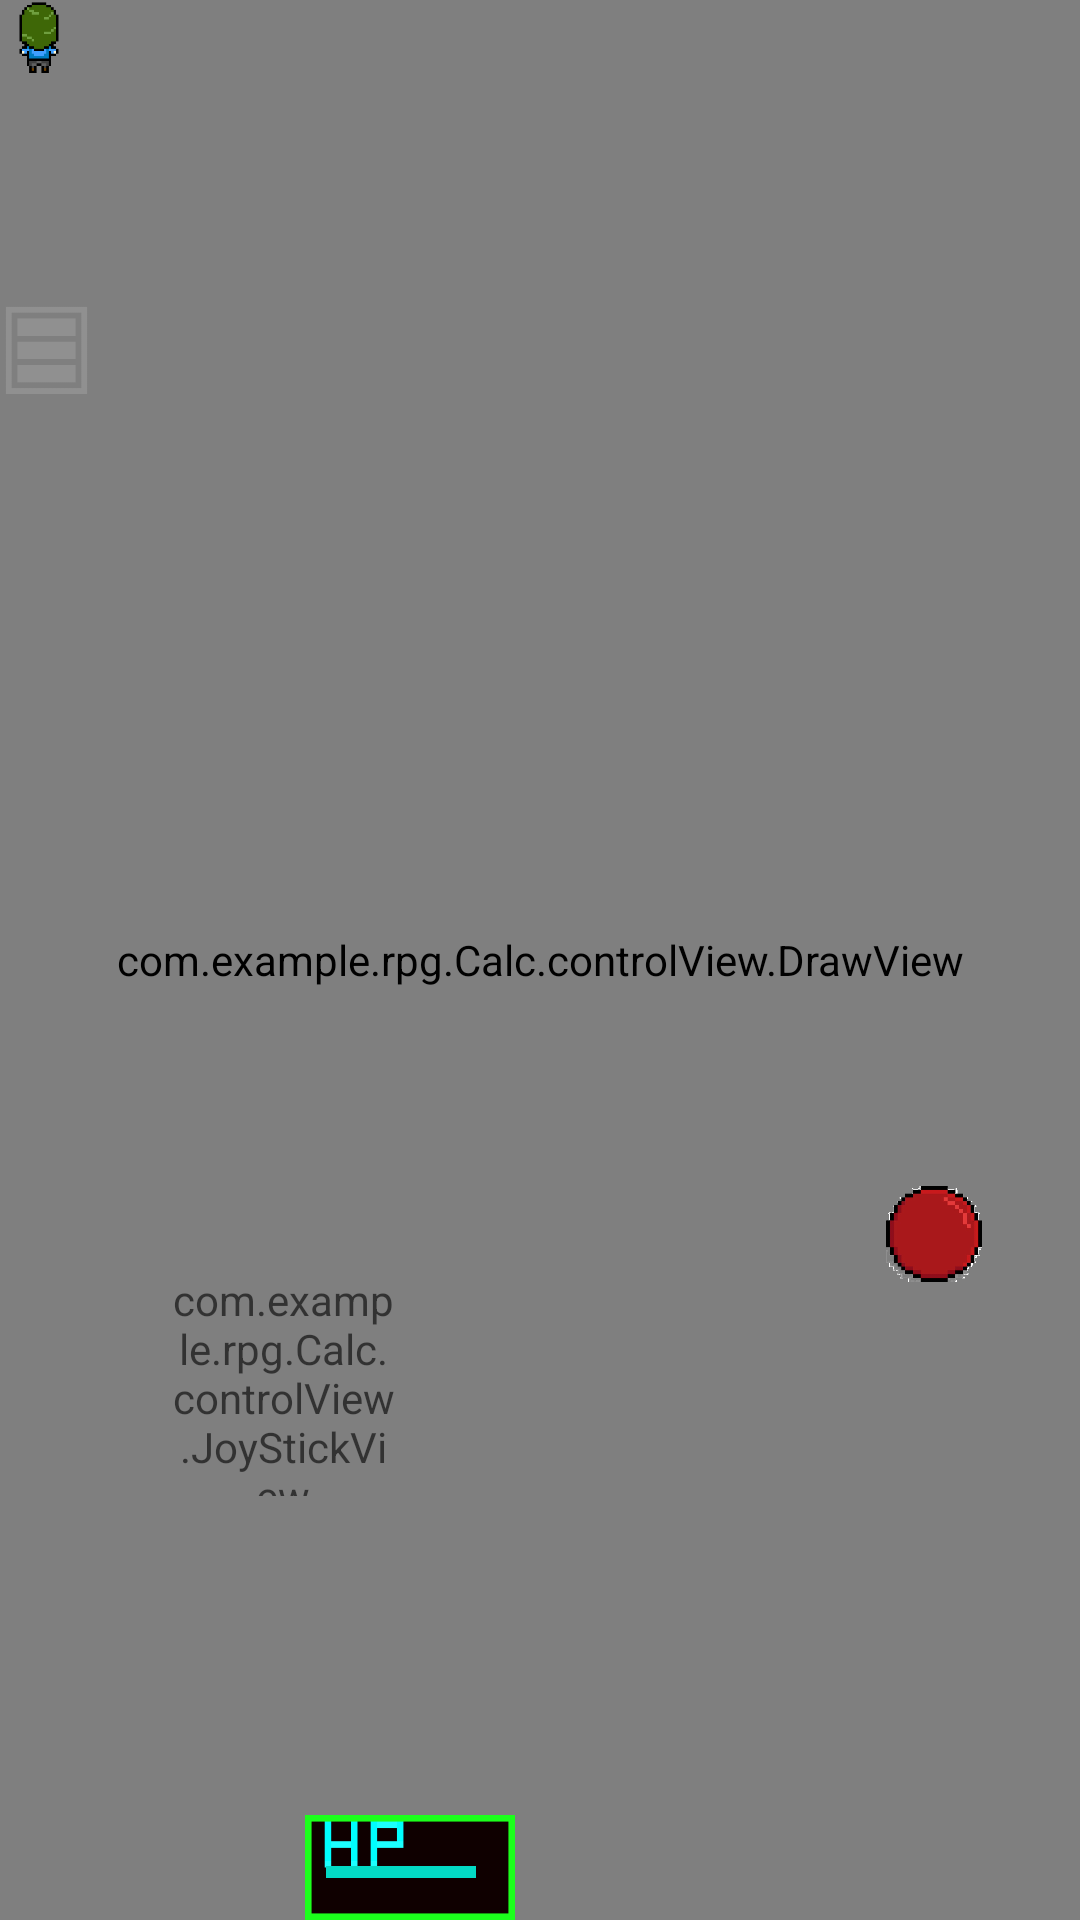

Icons on this 1080x1920 Android screen, each with its box as [x1, y1, x2, y2]:
player over: [19, 2, 59, 73]
